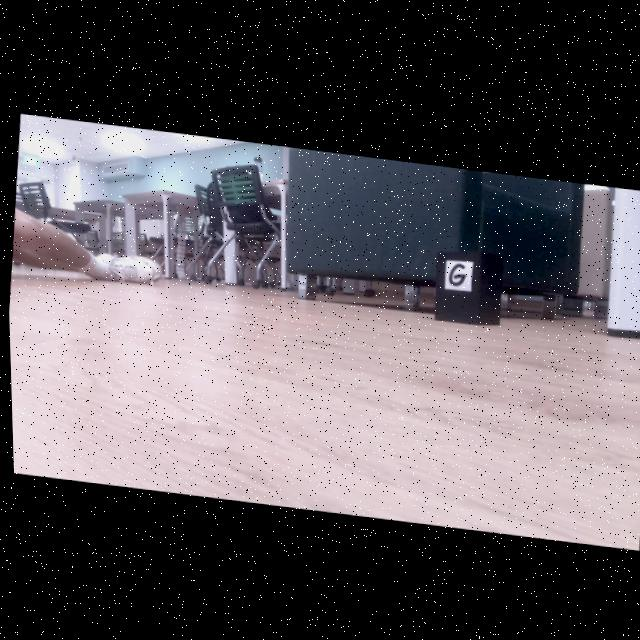G: (447, 260, 465, 282)
